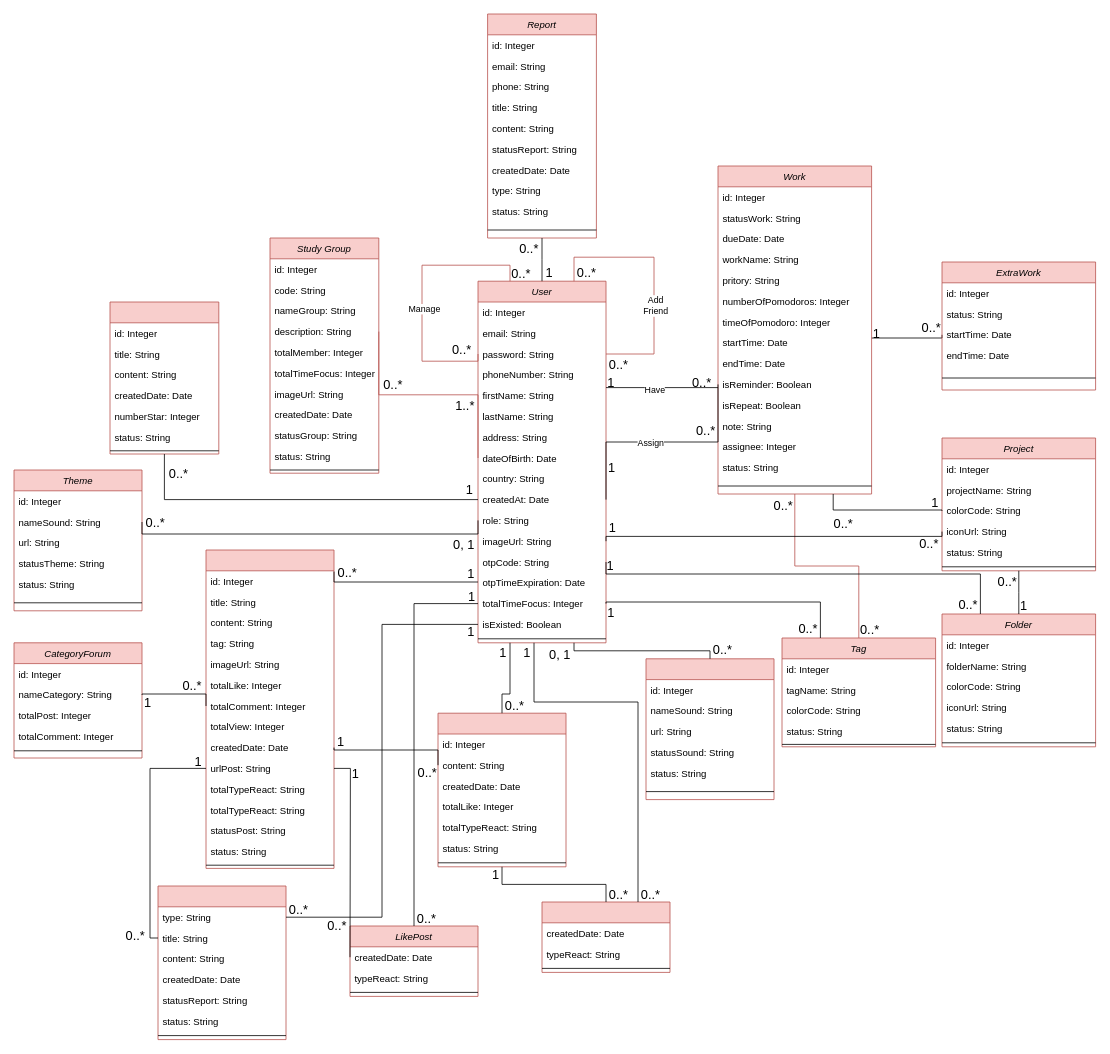
The diagram is 1110 pixels wide and 1054 high, and some of its shapes have lost their labels. Each missing label, with the box of its shape:
CommentPost: (437, 712, 566, 867)
LikeComment: (541, 901, 670, 972)
PostForum: (205, 549, 334, 868)
ReportPost: (157, 885, 286, 1040)
SoundConcentration: (645, 658, 774, 800)
Vote: (109, 301, 219, 454)
